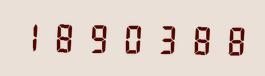eight: (50, 18, 82, 55), (182, 20, 214, 57), (215, 21, 247, 58)
nine: (83, 19, 115, 55)
one: (17, 17, 49, 54)
three: (149, 20, 181, 56)
zero: (116, 19, 148, 56)
